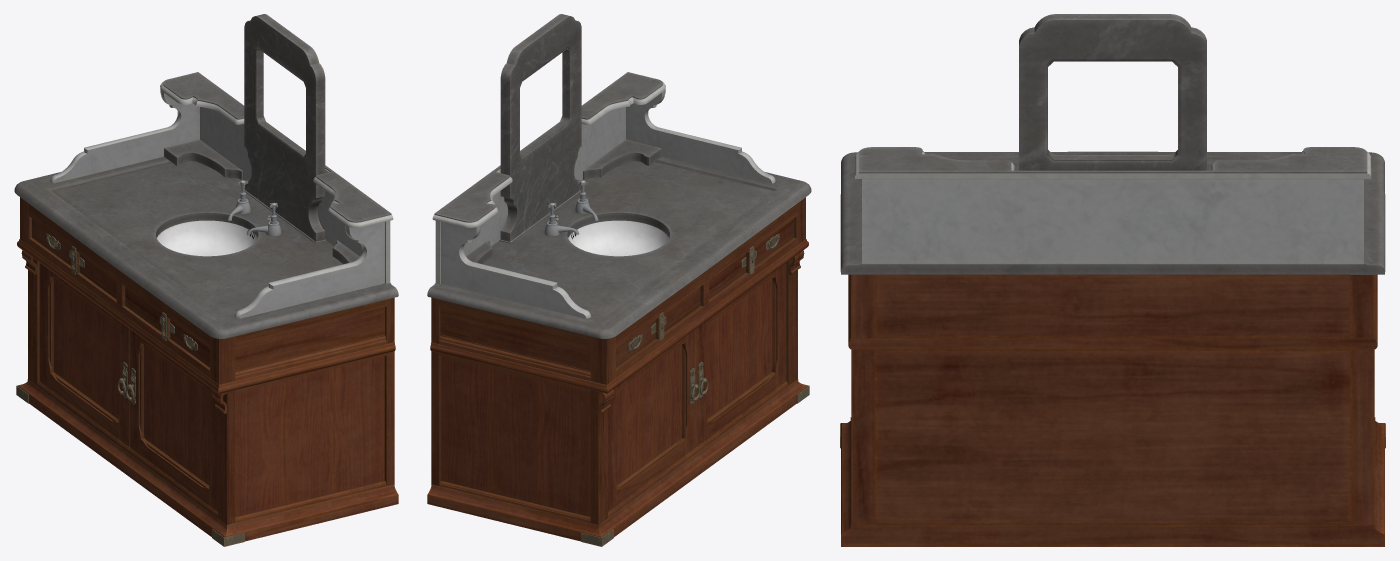
The model's file is SM_Heungbokheondong_BarberrStand.fbx.
3 views of the same model, side by side, from view 1: azimuth 30°, elevation 25°; view 2: azimuth 150°, elevation 25°; view 3: azimuth 270°, elevation 25° (orthographic). The views are drawn at different scales.
Visible parts, largest first — view 1: SM_Heungbokheondong_BarberrStand; view 2: SM_Heungbokheondong_BarberrStand; view 3: SM_Heungbokheondong_BarberrStand.
Part boxes in pixels (<box>): SM_Heungbokheondong_BarberrStand: <box>14,14,398,546</box>; SM_Heungbokheondong_BarberrStand: <box>427,14,811,546</box>; SM_Heungbokheondong_BarberrStand: <box>840,14,1385,546</box>.
Size of the model in its own units: 70 by 138 by 146.
